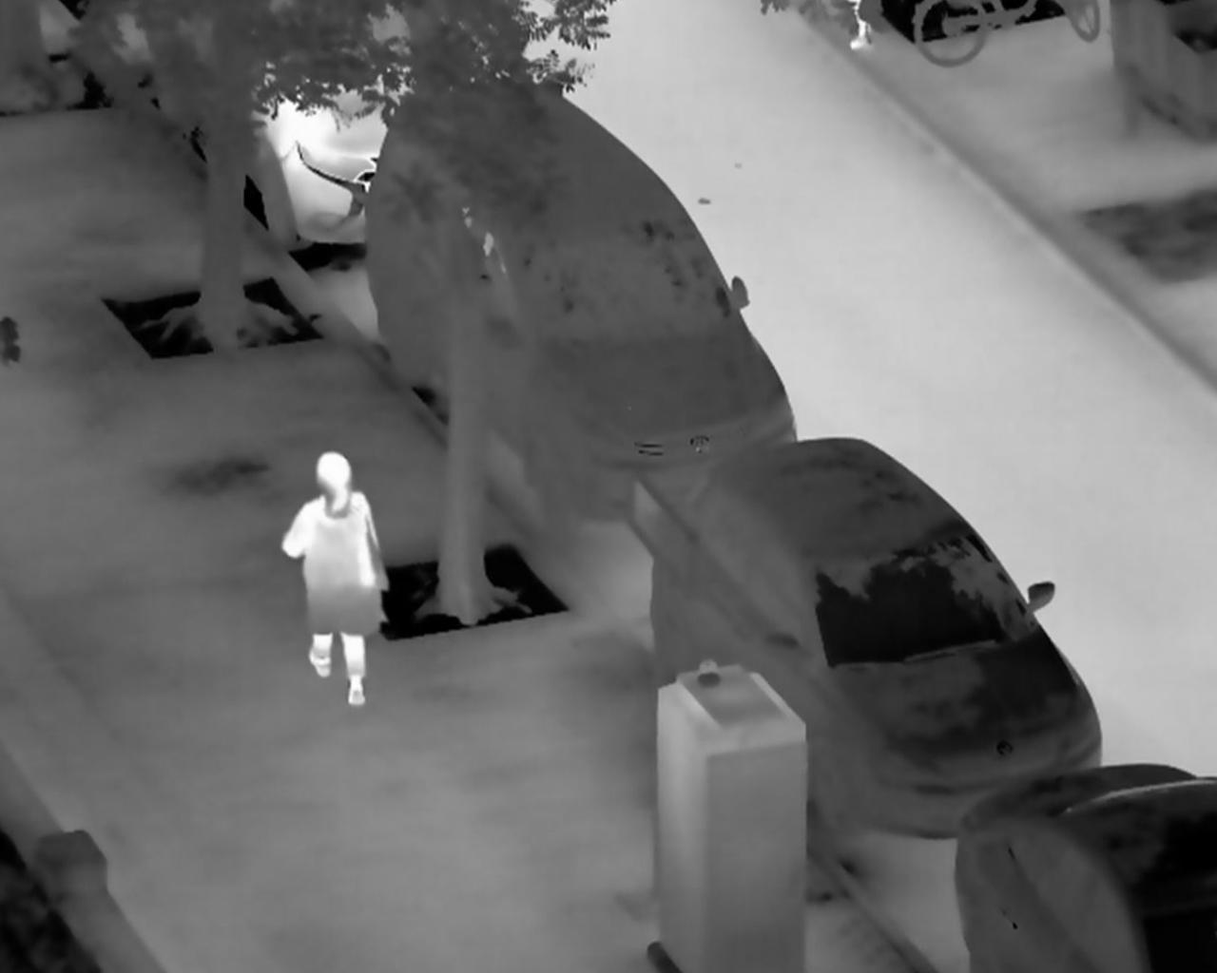person: (280, 447, 391, 714)
